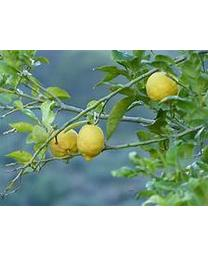lemon: (76, 122, 105, 161), (146, 72, 181, 102), (48, 128, 79, 157)
